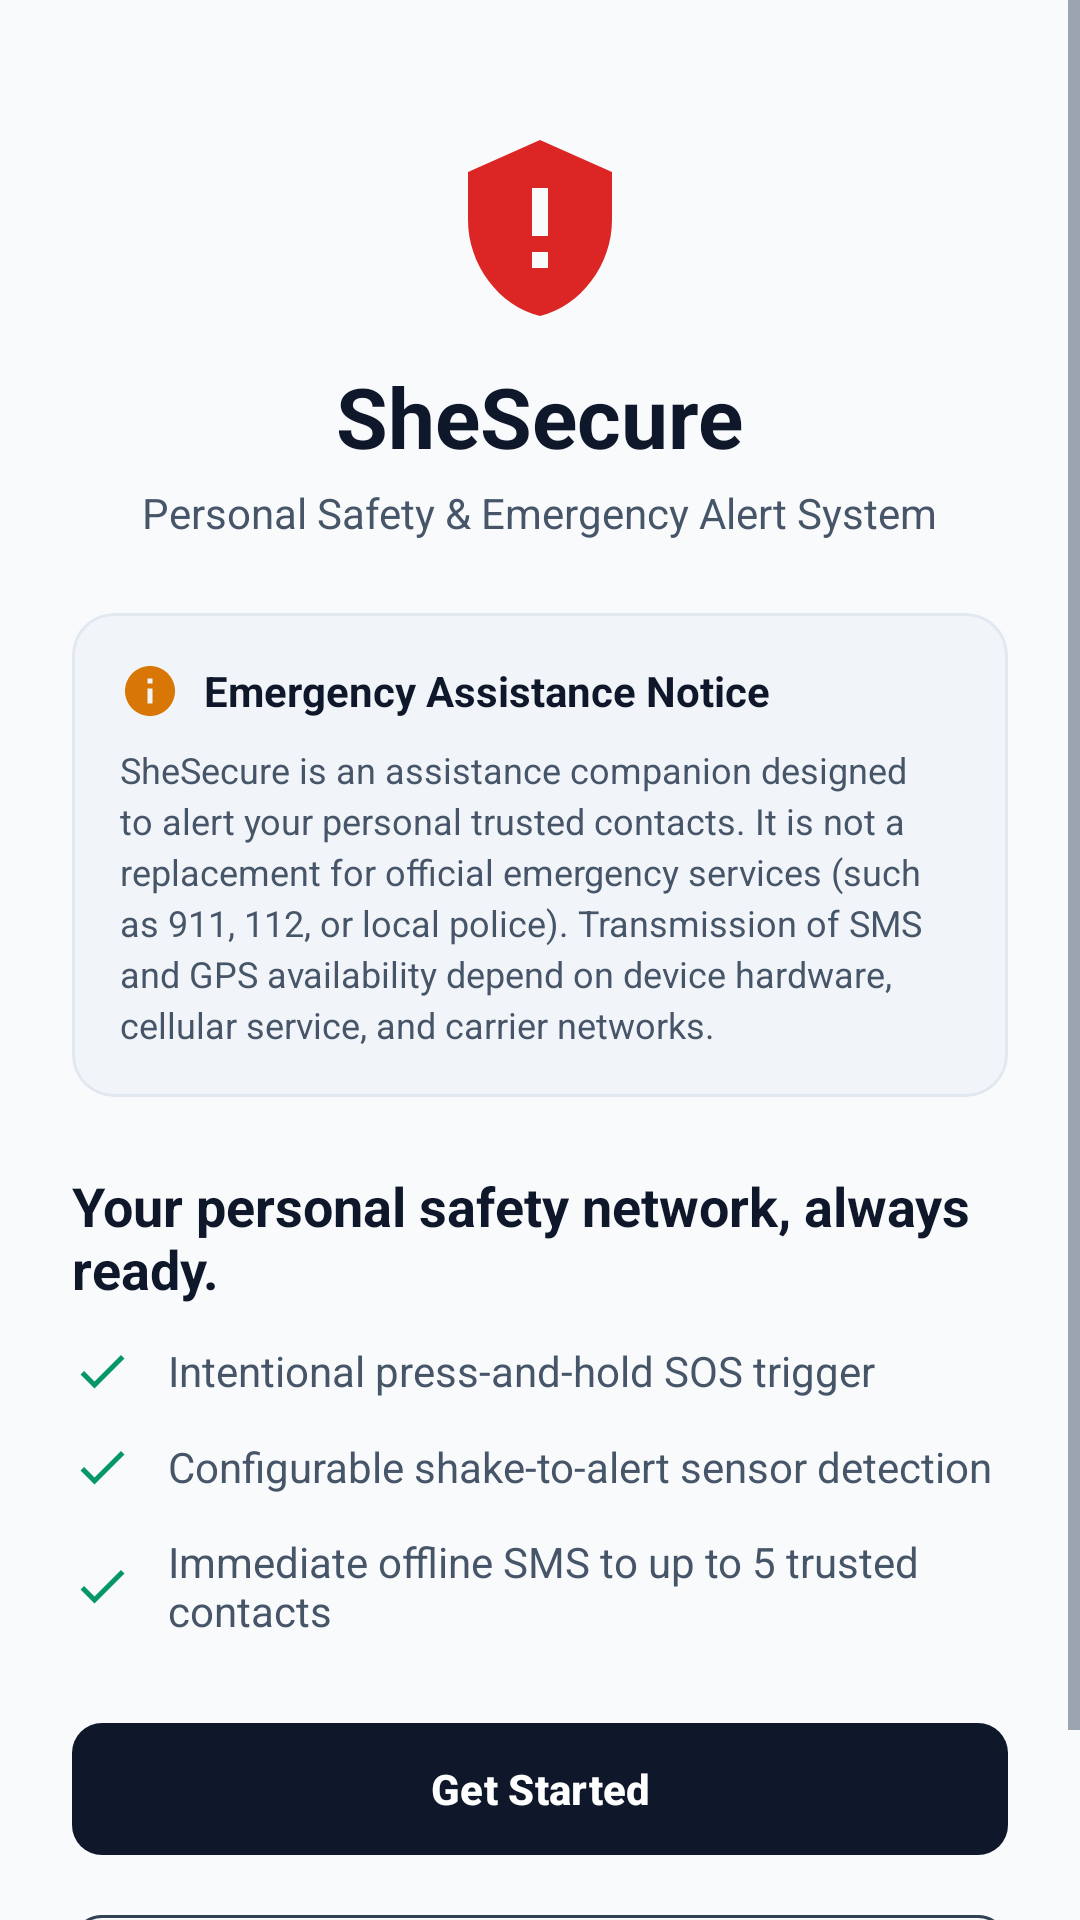

Icons on this 1080x1920 Android screen, each with its box as rect(x1, y1, x2, y2):
shield alert: rect(468, 140, 612, 316)
